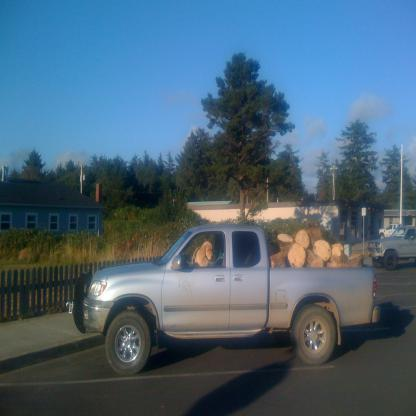Truck: (66, 224, 380, 375)
